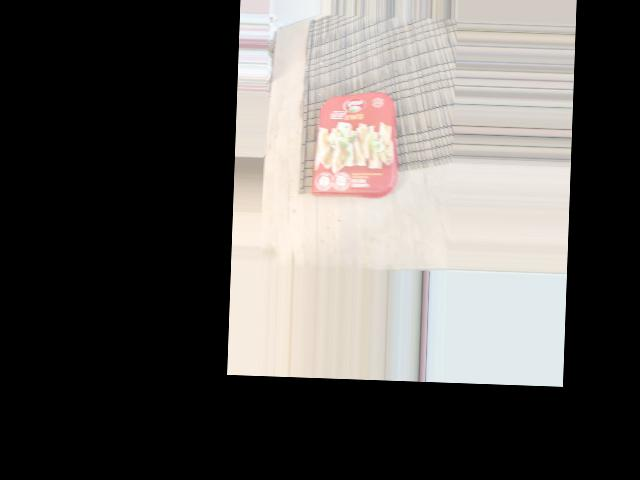cheese: (312, 89, 394, 207)
